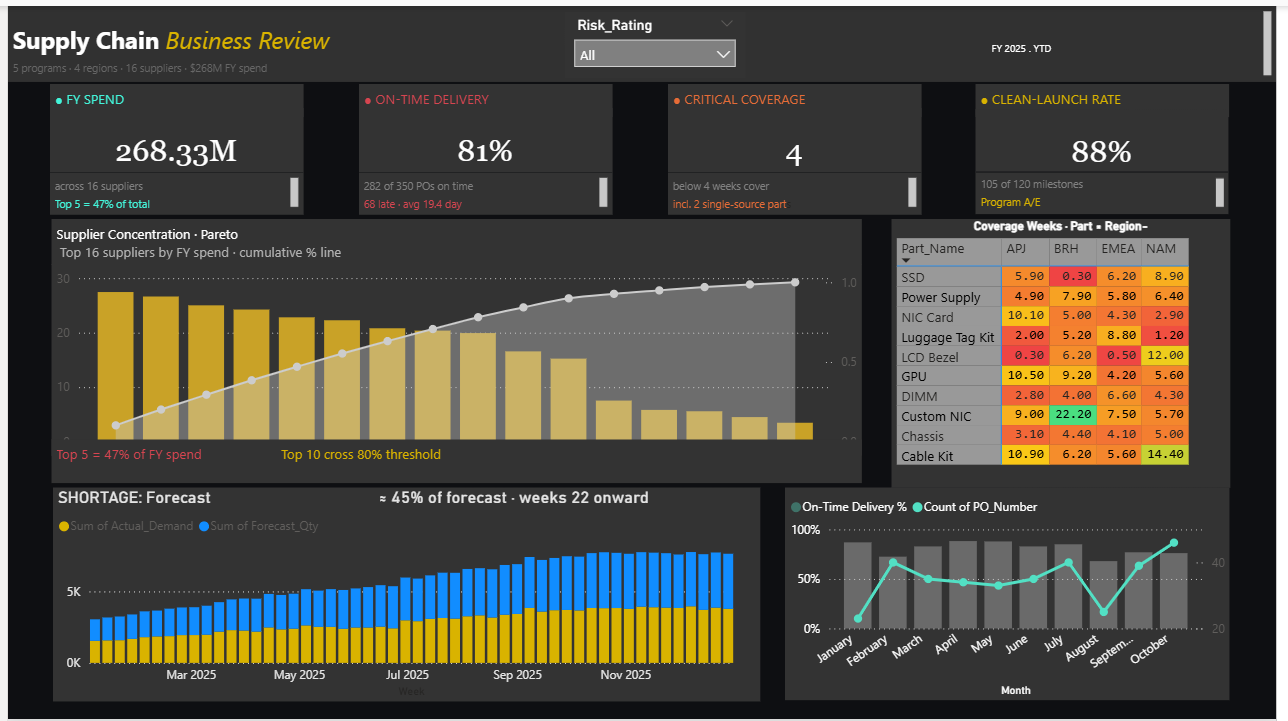

Layout of this report page (visuals, bound fields, positions):
{"tool":"powerbi","page":{"name":"Dashboard","canvas":[1280,720],"ordinal":0},"visuals":[{"type":"textbox","box":[0,0,1280.4,76.3],"z":0},{"type":"cardVisual","fields":{"Data":["tblSuppliers.Total Spend ($M)"]},"box":[42.9,103.1,256,64.4],"z":1000,"group":"g3"},{"type":"pivotTable","title":"Coverage Weeks · Part × Region- ","fields":{"Rows":["tblParts.Part_Name"],"Columns":["tblInventory.Region"],"Values":["Min(tblInventory.Coverage_Weeks)"]},"box":[891.1,215,342.3,271.3],"z":1000},{"type":"lineStackedColumnComboChart","title":"Top 16 suppliers by FY spend · cumulative % line","fields":{"Category":["tblSuppliers.Supplier"],"Y":["Sum(tblSuppliers.Total_Spend_USD_M)"],"Y2":["tblSuppliers.Cumulative Spend %"]},"box":[43.8,260.9,818,193],"z":1000,"group":"g1"},{"type":"textbox","box":[42.9,78.6,256,33.5],"z":2000,"group":"g3"},{"type":"textbox","box":[43.8,215,818,45.9],"z":2000,"group":"g1"},{"type":"lineStackedColumnComboChart","fields":{"Category":["tblPOs.PO_Date.Variation.Date Hierarchy.Month"],"Y":["tblPOs.On-Time Delivery %"],"Y2":["CountNonNull(tblPOs.PO_Number)"]},"box":[784.7,486.3,448.7,215],"z":2000},{"type":"textbox","box":[42.9,167.5,256,42.5],"z":3000,"group":"g3"},{"type":"textbox","box":[43.8,438.1,818,44.3],"z":3000,"group":"g1"},{"type":"columnChart","title":"SHORTAGE: Forecast                                       ≈ 45% of forecast · weeks 22 onward","fields":{"Category":["tblDemand.Week"],"Y":["Sum(tblDemand.Actual_Demand)","Sum(tblDemand.Forecast_Qty)"]},"box":[45.7,485.7,714.3,215.7],"z":3000},{"type":"cardVisual","fields":{"Data":["tblPOs.On-Time Delivery %"]},"box":[354.4,103.1,256,64.4],"z":4000,"group":"g4"},{"type":"cardVisual","fields":{"Data":["tblInventory.Critical SKU-Regions"]},"box":[665.8,103.2,256,64.4],"z":4000,"group":"g5"},{"type":"group","id":"g1","title":"Group 5","box":[43.8,215,818.1,267.1],"z":4000},{"type":"group","id":"g2","title":"Group 7","box":[42.9,78.6,1190,131.4],"z":5000},{"type":"group","id":"g3","title":"Group 1","box":[42.9,78.6,256,131.4],"z":5000,"group":"g2"},{"type":"textbox","box":[354.4,78.6,256,33.5],"z":5000,"group":"g4"},{"type":"textbox","box":[665.8,78.7,256,33.5],"z":5000,"group":"g5"},{"type":"slicer","fields":{"Values":["tblSuppliers.Risk_Rating"]},"box":[561.5,6.4,182.9,66.8],"z":6000},{"type":"group","id":"g4","title":"Group 2","box":[354.4,78.6,256,131.4],"z":6000,"group":"g2"},{"type":"textbox","box":[354.4,167.5,256,42.5],"z":6000,"group":"g4"},{"type":"textbox","box":[665.8,167.6,256,42.5],"z":6000,"group":"g5"},{"type":"group","id":"g5","title":"Group 2","box":[665.8,78.7,255.5,131.3],"z":7000},{"type":"textbox","box":[976.9,78.6,256,33.5],"z":8000,"group":"g7"},{"type":"group","id":"g6","title":"Group 4","box":[976.9,105,255.4,105],"z":9000,"group":"g7"},{"type":"group","id":"g7","title":"Group 6","box":[976.9,78.6,256,131.4],"z":10001,"group":"g2"},{"type":"cardVisual","fields":{"Data":["tblNPI.Clean-Launch Rate"]},"box":[976.9,105,255.4,62.4],"z":11000,"group":"g6"},{"type":"textbox","box":[976.9,168,255.4,42],"z":13000,"group":"g6"}]}

Visuals, with their boxes in screenshot pixels (x1, y1, x2, y2), scaled from the page's 1280x720 canvas onto the 1288x721 screenshot:
textbox: pyautogui.locateOnScreen(0, 0, 1287, 76)
cardVisual - tblSuppliers.Total Spend ($M): pyautogui.locateOnScreen(43, 103, 301, 168)
"Coverage Weeks · Part × Region- " pivotTable: pyautogui.locateOnScreen(897, 215, 1241, 487)
"Top 16 suppliers by FY spend · cumulative % line" lineStackedColumnComboChart: pyautogui.locateOnScreen(44, 261, 867, 455)
textbox: pyautogui.locateOnScreen(43, 79, 301, 112)
textbox: pyautogui.locateOnScreen(44, 215, 867, 261)
lineStackedColumnComboChart - tblPOs.PO_Date.Variation.Date Hierarchy.Month x tblPOs.On-Time Delivery %: pyautogui.locateOnScreen(790, 487, 1241, 702)
textbox: pyautogui.locateOnScreen(43, 168, 301, 210)
textbox: pyautogui.locateOnScreen(44, 439, 867, 483)
"SHORTAGE: Forecast                                       ≈ 45% of forecast · weeks 22 onward" columnChart: pyautogui.locateOnScreen(46, 486, 765, 702)
cardVisual - tblPOs.On-Time Delivery %: pyautogui.locateOnScreen(357, 103, 614, 168)
cardVisual - tblInventory.Critical SKU-Regions: pyautogui.locateOnScreen(670, 103, 928, 168)
"Group 5" group: pyautogui.locateOnScreen(44, 215, 867, 483)
"Group 7" group: pyautogui.locateOnScreen(43, 79, 1241, 210)
"Group 1" group: pyautogui.locateOnScreen(43, 79, 301, 210)
textbox: pyautogui.locateOnScreen(357, 79, 614, 112)
textbox: pyautogui.locateOnScreen(670, 79, 928, 112)
slicer - tblSuppliers.Risk_Rating: pyautogui.locateOnScreen(565, 6, 749, 73)
"Group 2" group: pyautogui.locateOnScreen(357, 79, 614, 210)
textbox: pyautogui.locateOnScreen(357, 168, 614, 210)
textbox: pyautogui.locateOnScreen(670, 168, 928, 210)
"Group 2" group: pyautogui.locateOnScreen(670, 79, 927, 210)
textbox: pyautogui.locateOnScreen(983, 79, 1241, 112)
"Group 4" group: pyautogui.locateOnScreen(983, 105, 1240, 210)
"Group 6" group: pyautogui.locateOnScreen(983, 79, 1241, 210)
cardVisual - tblNPI.Clean-Launch Rate: pyautogui.locateOnScreen(983, 105, 1240, 168)
textbox: pyautogui.locateOnScreen(983, 168, 1240, 210)
